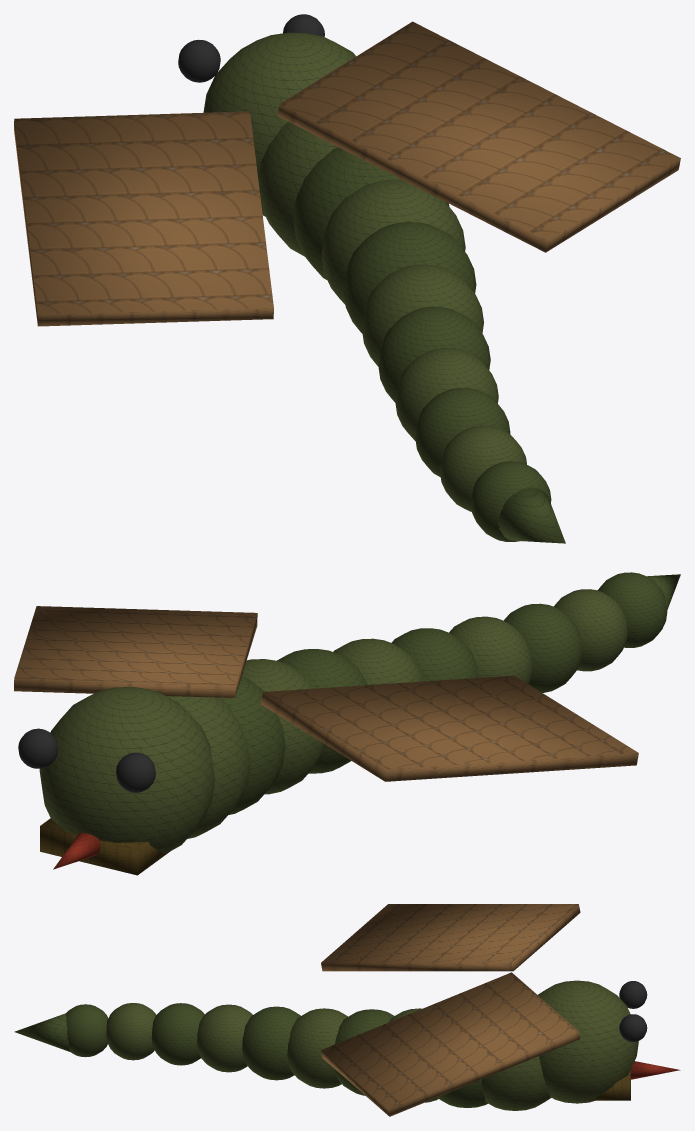
The model's file is amphiptere.glb.
3 renders of one model, top to bottom at view 1: azimuth 30°, elevation 25°; view 2: azimuth 150°, elevation 25°; view 3: azimuth 270°, elevation 25°, orthographic. The views are drawn at different scales.
Visible parts, largest first — view 1: Wing, Wing.001, Head, Segment.002, Segment.003, Segment.004, Segment.001, Segment.005, Segment, Segment.006, Segment.007, Segment.008 (+3 smaller); view 2: Wing, Head, Wing.001, Segment, Segment.007, Segment.001, Segment.008, Segment.002, Segment.006, Segment.009, Segment.005, Segment.003 (+6 smaller); view 3: Wing.001, Wing, Head, Segment.004, Segment.005, Segment.006, Segment, Segment.007, Segment.008, Segment.009, Segment.003, Tail (+5 smaller).
Boxes of the visible parts, bbox=[...] form: Wing: bbox=[14, 111, 273, 326]; Wing.001: bbox=[277, 21, 680, 252]; Head: bbox=[203, 32, 356, 216]; Segment.002: bbox=[321, 179, 465, 304]; Segment.003: bbox=[343, 222, 476, 333]; Segment.004: bbox=[362, 264, 483, 366]; Segment.001: bbox=[293, 147, 449, 279]; Segment.005: bbox=[378, 306, 490, 402]; Segment: bbox=[258, 122, 337, 256]; Segment.006: bbox=[395, 348, 498, 440]; Segment.007: bbox=[415, 387, 510, 477]; Segment.008: bbox=[440, 425, 526, 511]; Wing: bbox=[261, 675, 638, 781]; Head: bbox=[39, 687, 215, 853]; Wing.001: bbox=[14, 606, 257, 697]; Segment: bbox=[166, 696, 250, 838]; Segment.007: bbox=[504, 603, 582, 692]; Segment.001: bbox=[219, 676, 285, 814]; Segment.008: bbox=[554, 589, 627, 671]; Segment.002: bbox=[242, 659, 325, 794]; Segment.006: bbox=[449, 616, 532, 684]; Segment.009: bbox=[597, 572, 667, 647]; Segment.005: bbox=[391, 628, 478, 681]; Segment.003: bbox=[277, 649, 367, 773]; Wing.001: bbox=[321, 972, 580, 1116]; Wing: bbox=[321, 904, 580, 971]; Head: bbox=[538, 980, 638, 1103]; Segment.004: bbox=[287, 1008, 347, 1088]; Segment.005: bbox=[242, 1006, 300, 1080]; Segment.006: bbox=[197, 1004, 252, 1072]; Segment: bbox=[481, 1056, 551, 1110]; Segment.007: bbox=[151, 1003, 204, 1065]; Segment.008: bbox=[106, 1003, 156, 1060]; Segment.009: bbox=[66, 1004, 108, 1057]; Segment.003: bbox=[335, 1009, 394, 1095]; Tail: bbox=[14, 1013, 84, 1056].
Bounding box in the file's own units: 1.73 × 0.47 × 2.38.
6 materials, 5 textured.
